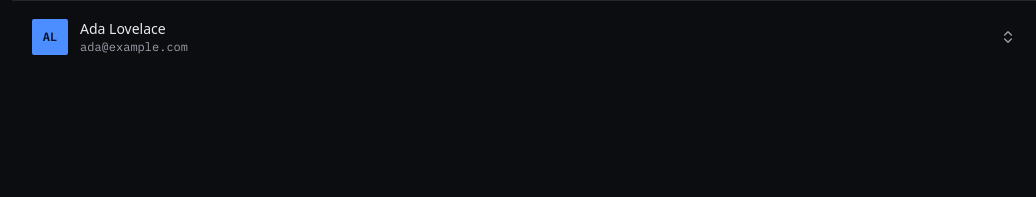
navigates to personal settings from the menu
The image size is (1036, 197).
Press Enter in the button "AL Ada Lovelace ada@example.com", box top-left (24, 13), bottom-right (1024, 61)
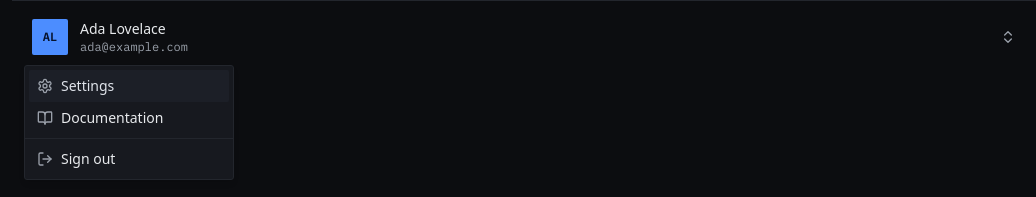
Click the menu item "Settings". click: (129, 86)
box: top-left (29, 70), bottom-right (229, 102)
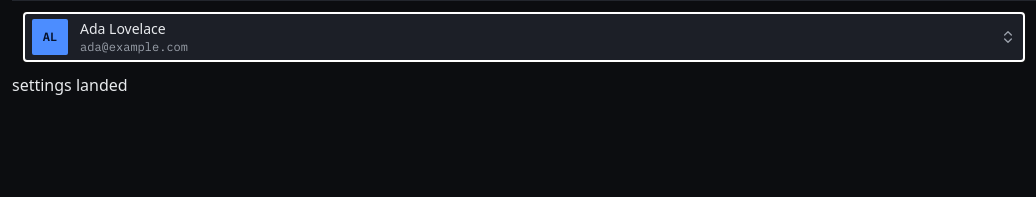
Check: the text "settings landed" is shown, box top-left (12, 74), bottom-right (128, 96)
